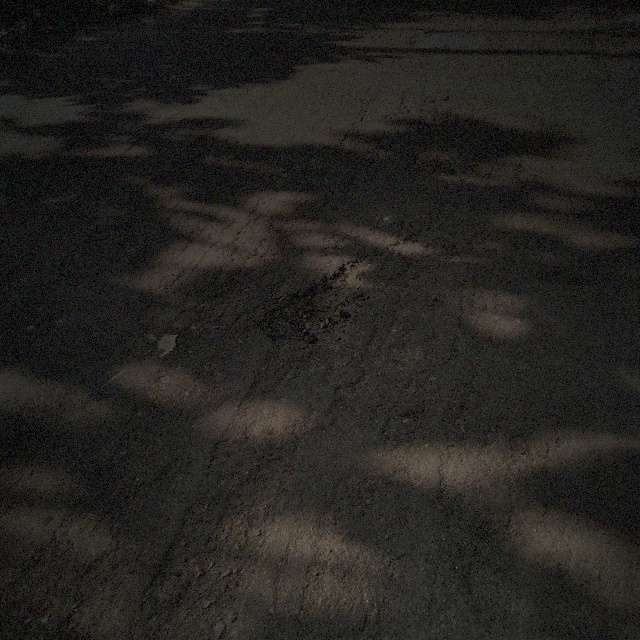pothole: (252, 258, 370, 353)
